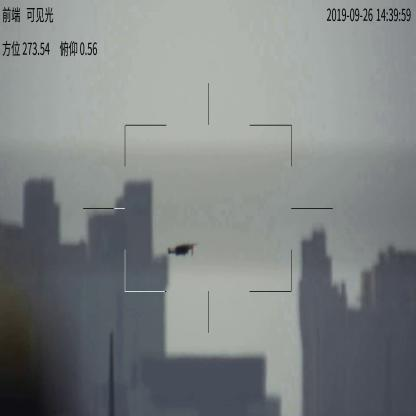uav: (166, 241, 199, 260)
